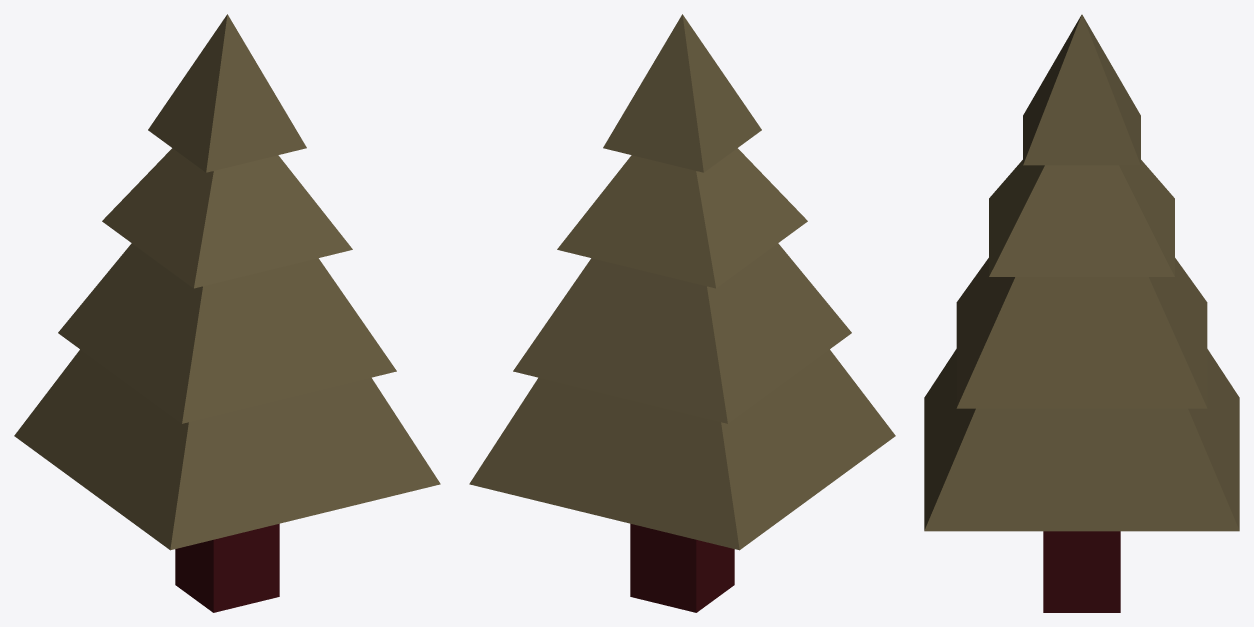
File: Tree02.fbx
The picture shows the model from 3 angles, left to right: view 1: azimuth 30°, elevation 25°; view 2: azimuth 150°, elevation 25°; view 3: azimuth 270°, elevation 25°; orthographic projection.
Parts seen in each view (by area): view 1: Tree 2; view 2: Tree 2; view 3: Tree 2.
Boxes of the visible parts, left/top/right/bottom form: Tree 2: left=14, top=14, right=440, bottom=612; Tree 2: left=469, top=14, right=895, bottom=612; Tree 2: left=924, top=14, right=1239, bottom=612.
Size of the model in its own units: 98.86 by 201 by 98.86.
